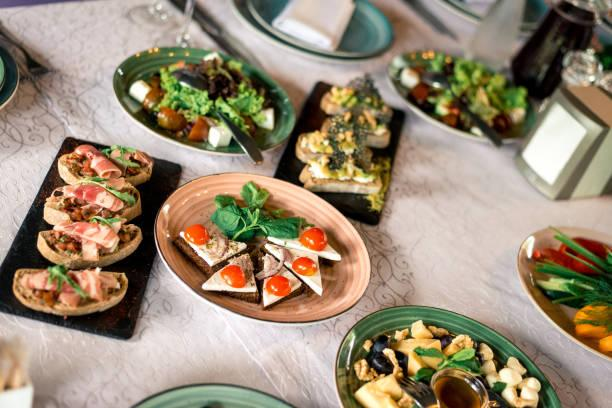Braised Crucian Carp: (0, 135, 181, 340), (150, 172, 363, 324), (343, 302, 555, 408), (111, 45, 290, 156), (272, 84, 409, 208)
